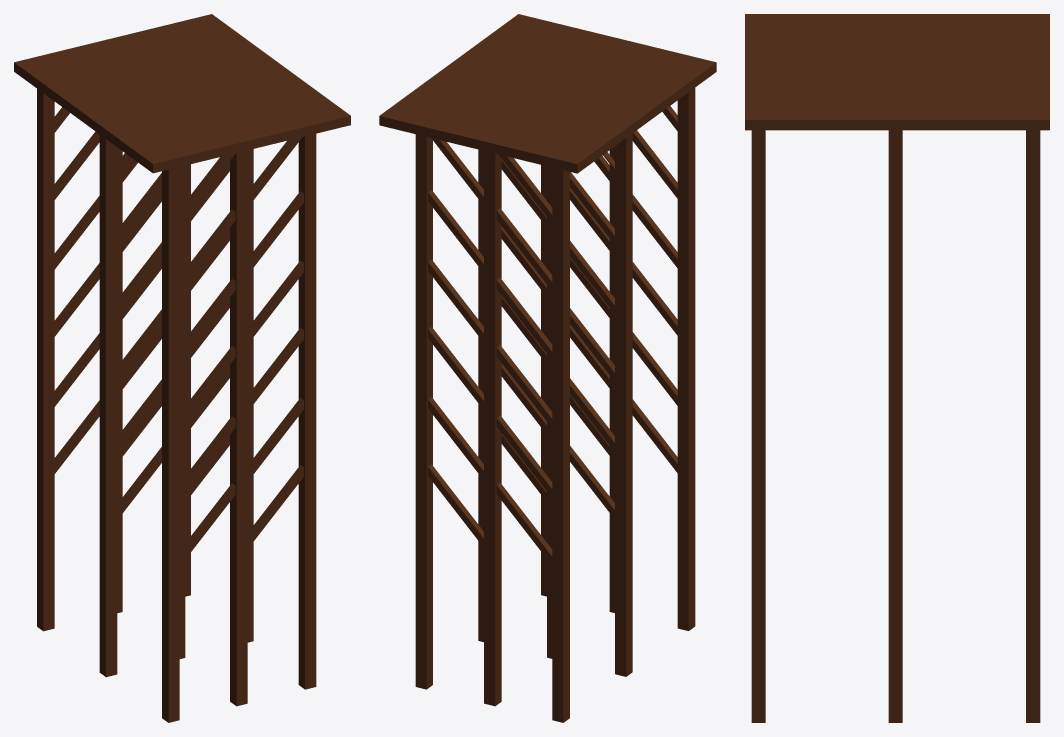
The model's file is pLATFORM_lEGS.fbx.
3 renders of one model, left to right at view 1: azimuth 30°, elevation 25°; view 2: azimuth 150°, elevation 25°; view 3: azimuth 270°, elevation 25°, orthographic. The views are drawn at different scales.
Visible parts, largest first — view 1: Cube.004; view 2: Cube.004; view 3: Cube.004.
Boxes of the visible parts, box(x1,y1,x2,y2) form: Cube.004: box(14, 14, 350, 722); Cube.004: box(379, 14, 716, 722); Cube.004: box(745, 14, 1049, 722).
Size of the model in its own units: 657 by 1794 by 799.
